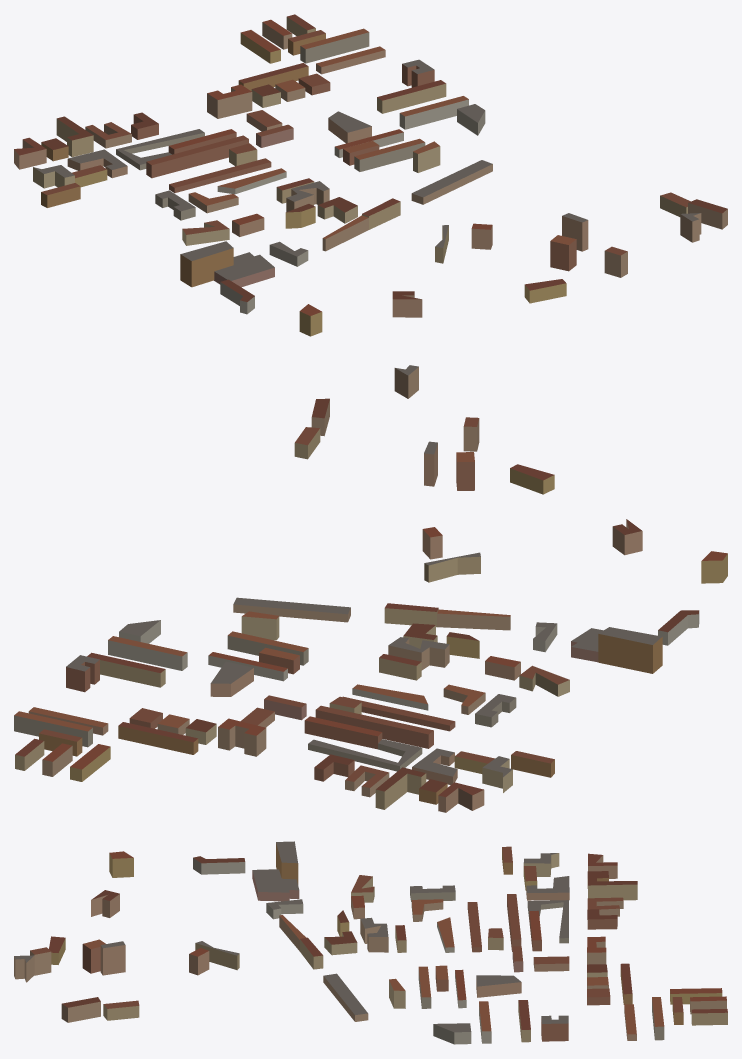
File: SM_Fondale_Citta_Colle_05_LOD2.fbx
3 renders of one model, top to bottom at view 1: azimuth 30°, elevation 25°; view 2: azimuth 150°, elevation 25°; view 3: azimuth 270°, elevation 25°, orthographic. The views are drawn at different scales.
Parts seen in each view (by area): view 1: SM_Fondale_Citta_Colle_05_LOD2; view 2: SM_Fondale_Citta_Colle_05_LOD2; view 3: SM_Fondale_Citta_Colle_05_LOD2.
Boxes of the visible parts, <box> form: SM_Fondale_Citta_Colle_05_LOD2: <box>14,14,727,336</box>; SM_Fondale_Citta_Colle_05_LOD2: <box>14,365,727,812</box>; SM_Fondale_Citta_Colle_05_LOD2: <box>14,841,727,1044</box>.
Bounding box in the file's own units: 54057 × 79445 × 9628.
